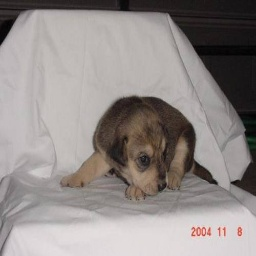dog: (54, 94, 222, 203)
